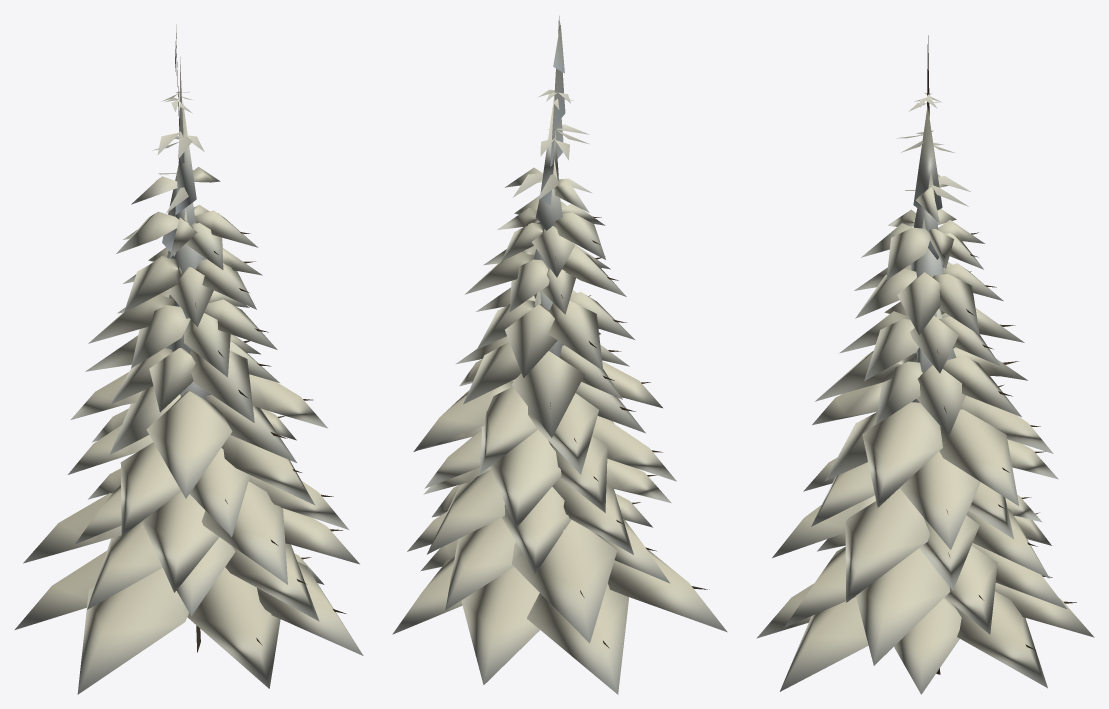
3 views of the same model, side by side, from view 1: azimuth 30°, elevation 25°; view 2: azimuth 150°, elevation 25°; view 3: azimuth 270°, elevation 25° (orthographic). The views are drawn at different scales.
Parts seen in each view (by area): view 1: crown, trunk; view 2: crown; view 3: crown, trunk.
Part boxes in pixels (left/top/right/bottom): crown: left=15, top=24, right=363, bottom=694; trunk: left=176, top=37, right=346, bottom=652; crown: left=392, top=16, right=727, bottom=694; crown: left=756, top=93, right=1094, bottom=694; trunk: left=927, top=35, right=1076, bottom=674.
Size of the model in its own units: 6.95 by 14.57 by 6.91.
